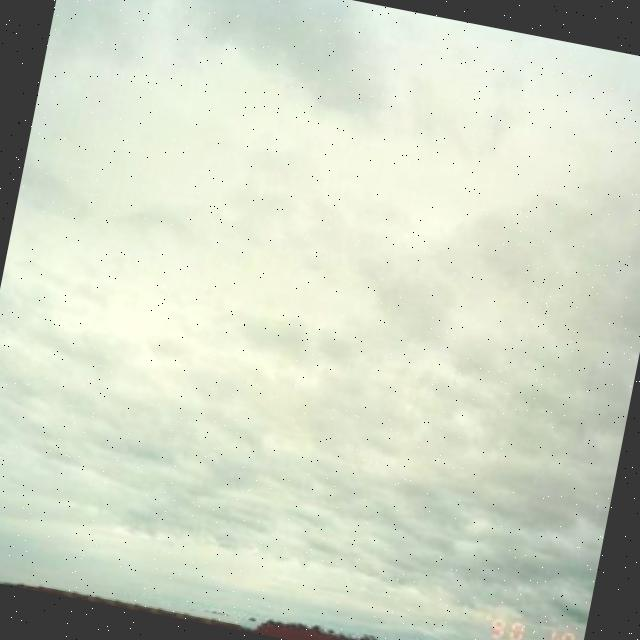Ns: (1, 9, 640, 588)
